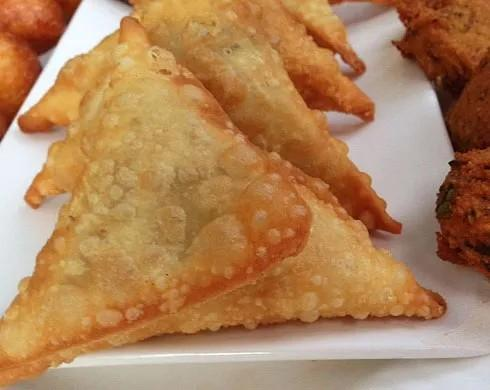Samosa: (0, 16, 448, 390), (22, 12, 404, 237), (12, 0, 379, 132)
